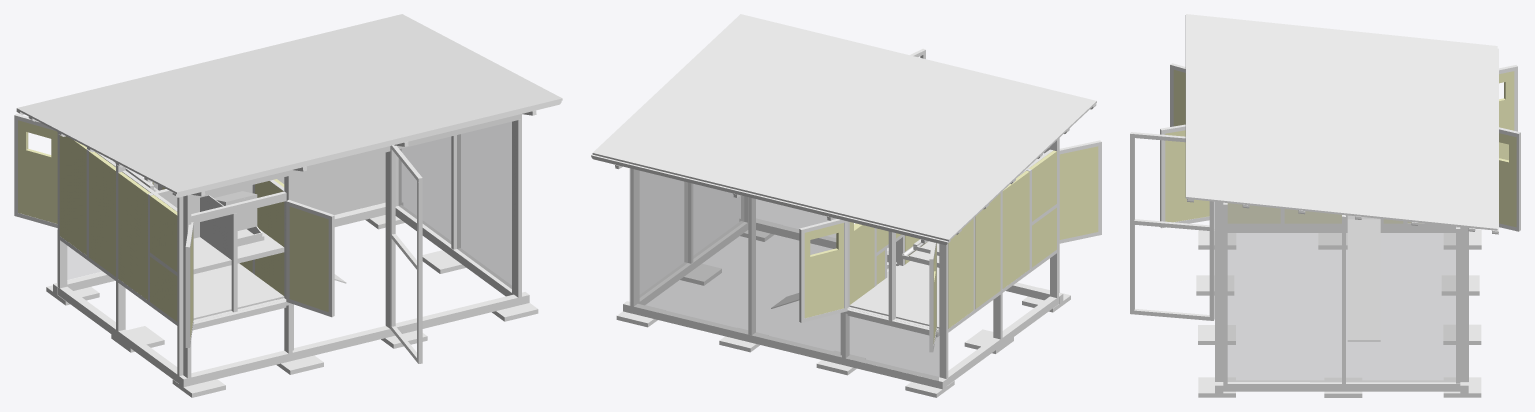
Rendered from coop.glb.
The picture shows the model from 3 angles, left to right: view 1: azimuth 30°, elevation 25°; view 2: azimuth 150°, elevation 25°; view 3: azimuth 270°, elevation 25°; orthographic projection. The views are drawn at different scales.
Visible parts, largest first — view 1: Material2 (×42), Material3 (×3); view 2: Material2 (×30), Material3 (×2); view 3: Material2 (×36).
Part boxes in pixels (bbox=[...]): Material2 (×42): bbox=[16, 14, 562, 397]; Material3 (×3): bbox=[53, 152, 403, 328]; Material2 (×30): bbox=[591, 14, 1098, 385]; Material3 (×2): bbox=[623, 301, 946, 389]; Material2 (×36): bbox=[1130, 14, 1520, 397].
Size of the model in its own units: 180 by 95.98 by 162.
